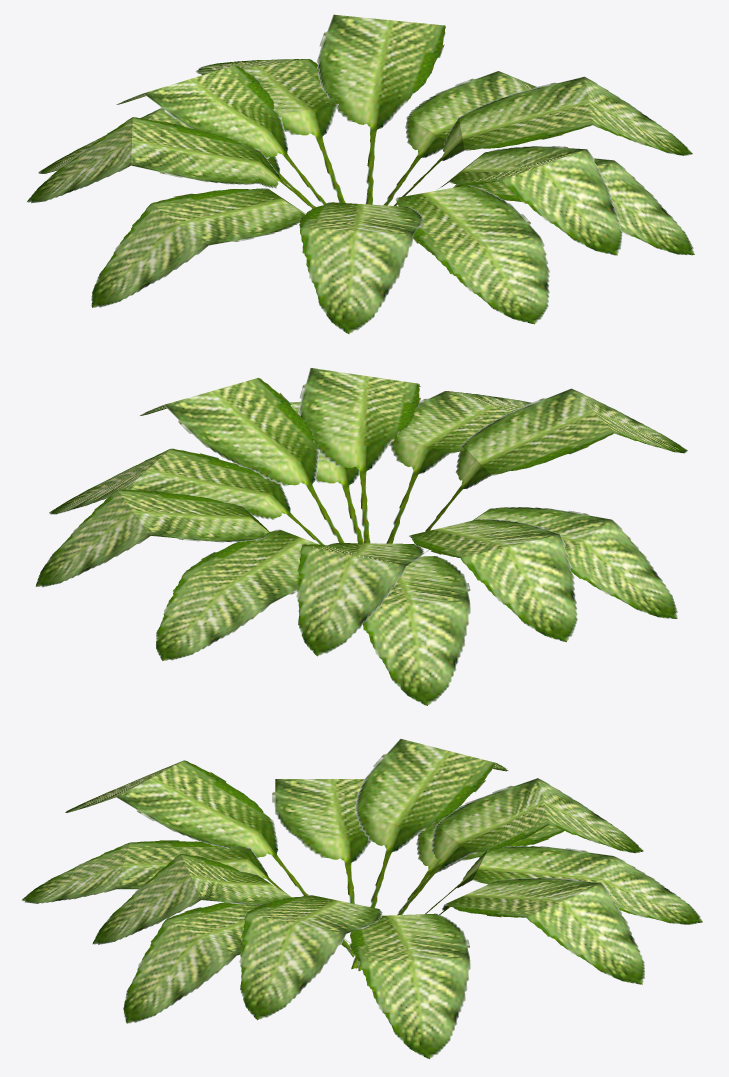
Rendered from plant 1.fbx.
3 renders of one model, top to bottom at view 1: azimuth 30°, elevation 25°; view 2: azimuth 150°, elevation 25°; view 3: azimuth 270°, elevation 25°, orthographic. The views are drawn at different scales.
Visible parts, largest first — view 1: plant 1; view 2: plant 1; view 3: plant 1.
Part boxes in pixels (x1,y1,x2,y2): plant 1: (27, 14, 694, 333); plant 1: (35, 368, 687, 705); plant 1: (22, 738, 702, 1059).
Bounding box in the file's own units: 33.02 × 7.37 × 35.16.
